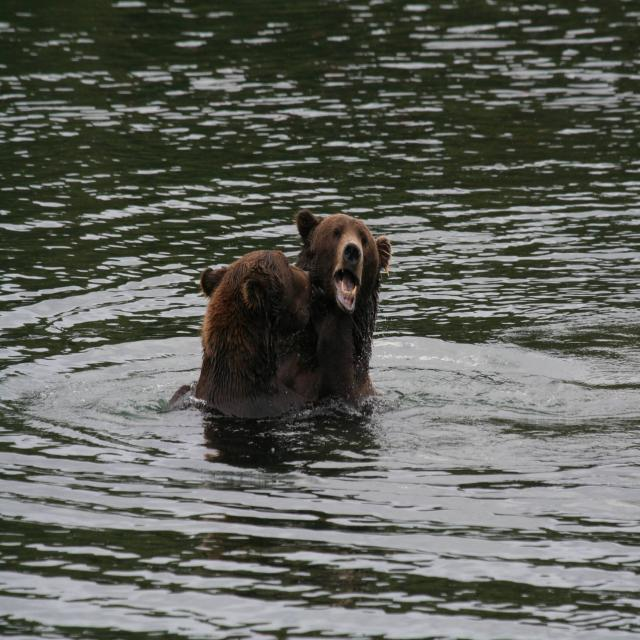bear face: (197, 251, 309, 417), (295, 204, 390, 398)
